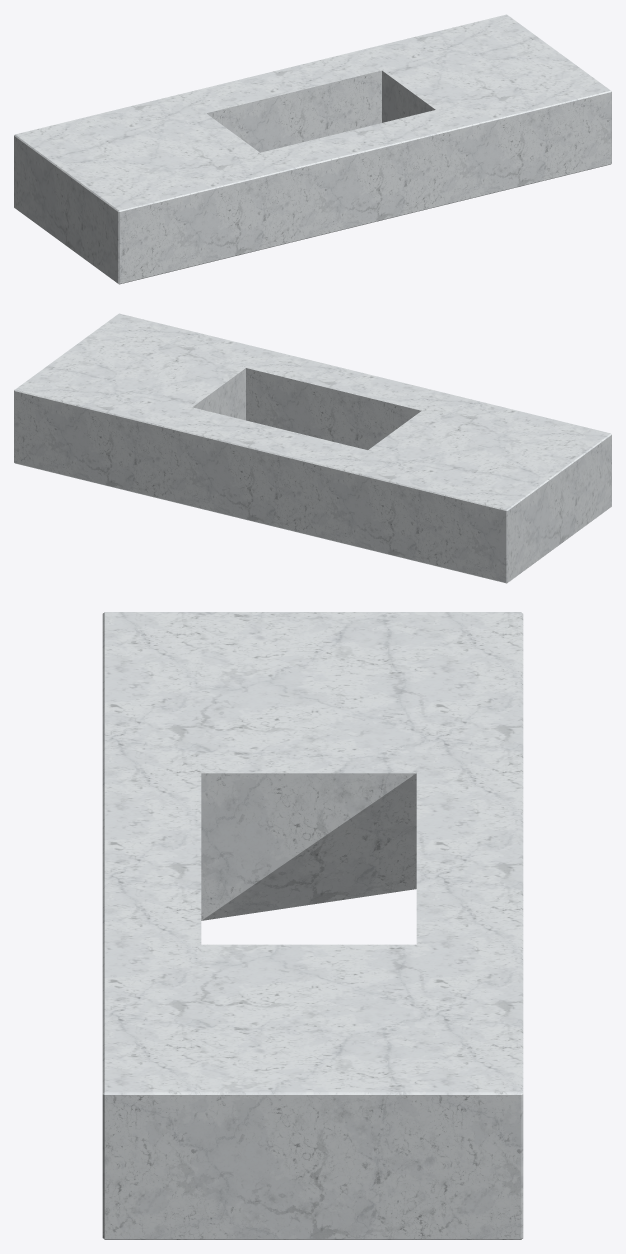
The model's file is marmore_pia.obj.
3 views of the same model, one above another, from view 1: azimuth 30°, elevation 25°; view 2: azimuth 150°, elevation 25°; view 3: azimuth 270°, elevation 25° (orthographic). The views are drawn at different scales.
Parts seen in each view (by area): view 1: Rectangle03_Mesh.010; view 2: Rectangle03_Mesh.010; view 3: Rectangle03_Mesh.010.
Boxes of the visible parts, bbox=[...] form: Rectangle03_Mesh.010: bbox=[14, 14, 611, 284]; Rectangle03_Mesh.010: bbox=[14, 313, 611, 583]; Rectangle03_Mesh.010: bbox=[102, 612, 523, 1239].
Bounding box in the file's own units: 1.24 × 0.1766 × 0.4563.
